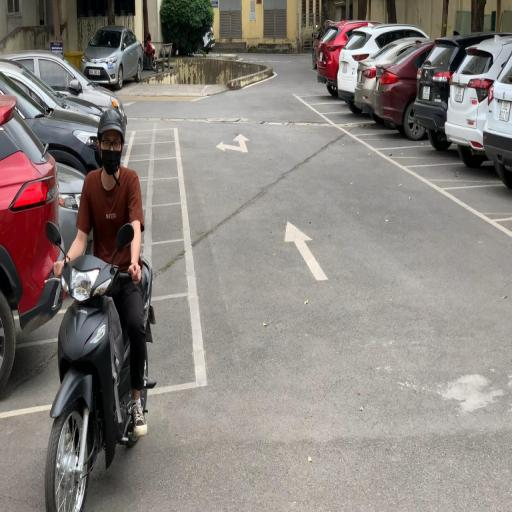bike: (45, 107, 157, 512)
with helmet: (98, 108, 124, 136)
